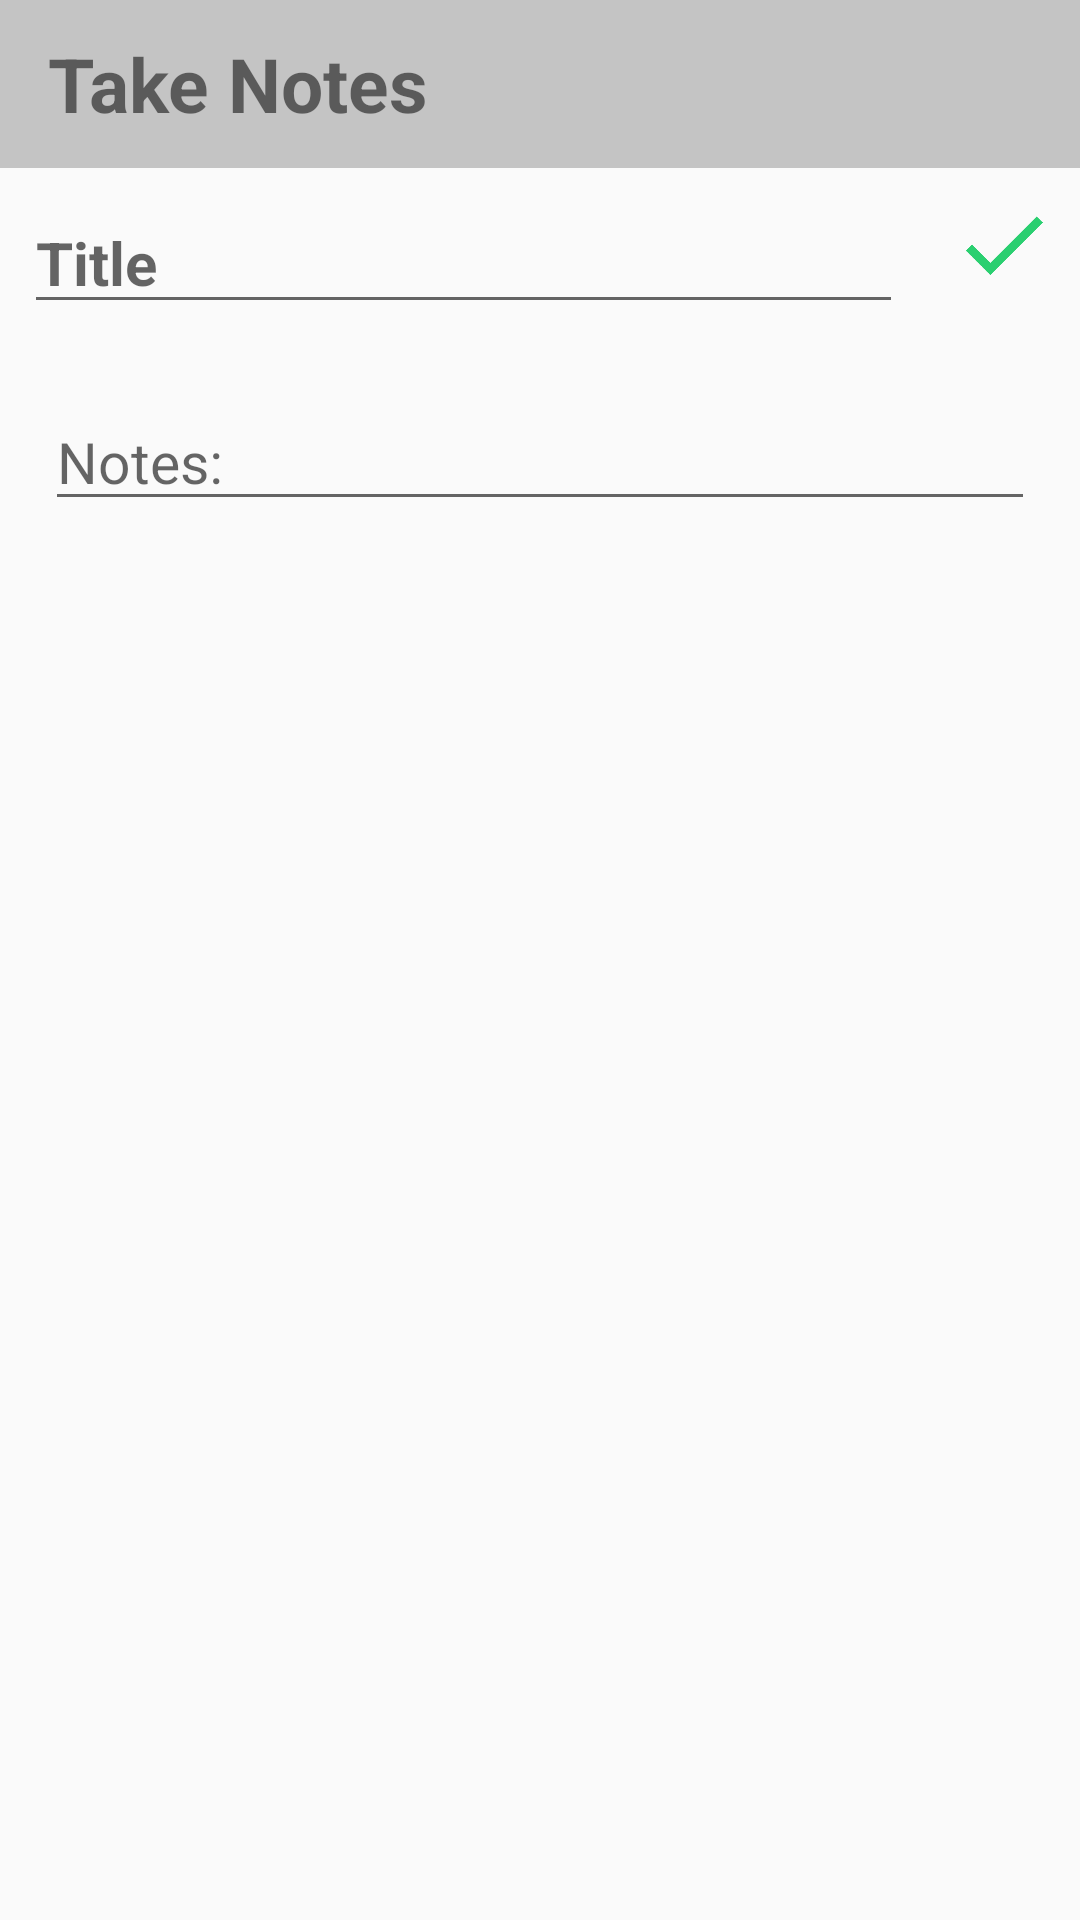

Named icons in this screenshot (1080w x 1920h) and their centers, (x,y):
save: (1004,245)
